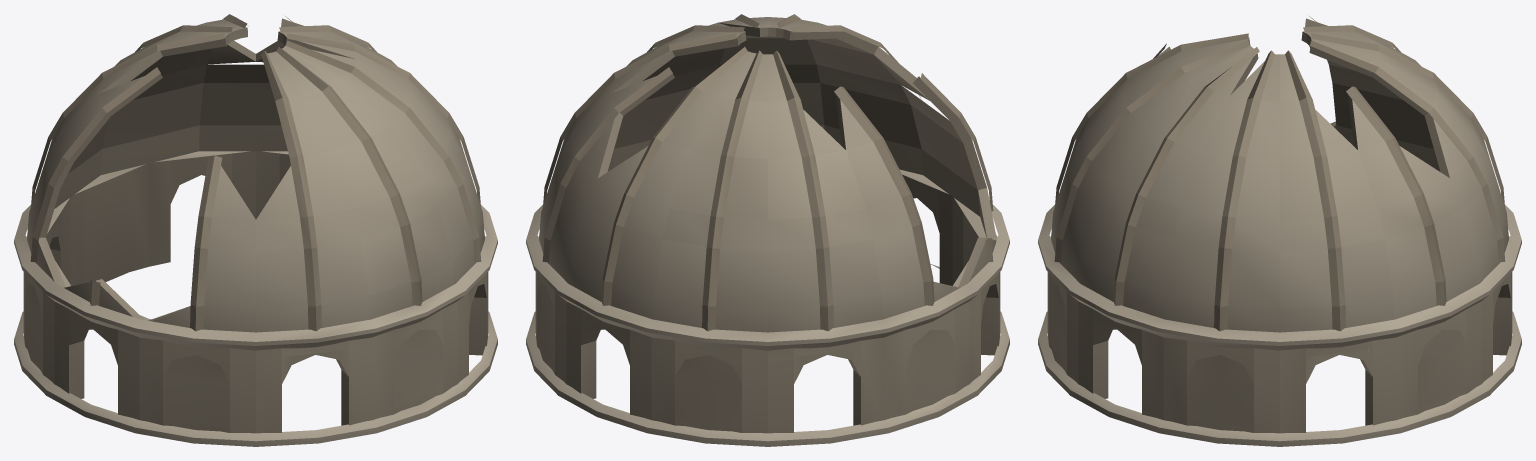
The model's file is dome.hall_ruin_12.stone.glb.
3 views of the same model, side by side, from view 1: azimuth 30°, elevation 25°; view 2: azimuth 150°, elevation 25°; view 3: azimuth 270°, elevation 25° (orthographic).
Visible parts, largest first — view 1: dome_hall_ruin_12_stone; view 2: dome_hall_ruin_12_stone; view 3: dome_hall_ruin_12_stone.
Boxes of the visible parts, x1,y1,x2,y2 form: dome_hall_ruin_12_stone: [14, 14, 497, 446]; dome_hall_ruin_12_stone: [526, 14, 1009, 446]; dome_hall_ruin_12_stone: [1038, 16, 1521, 446].
Size of what is drawn, in the model's own units: 15.2 by 10.67 by 15.2.
